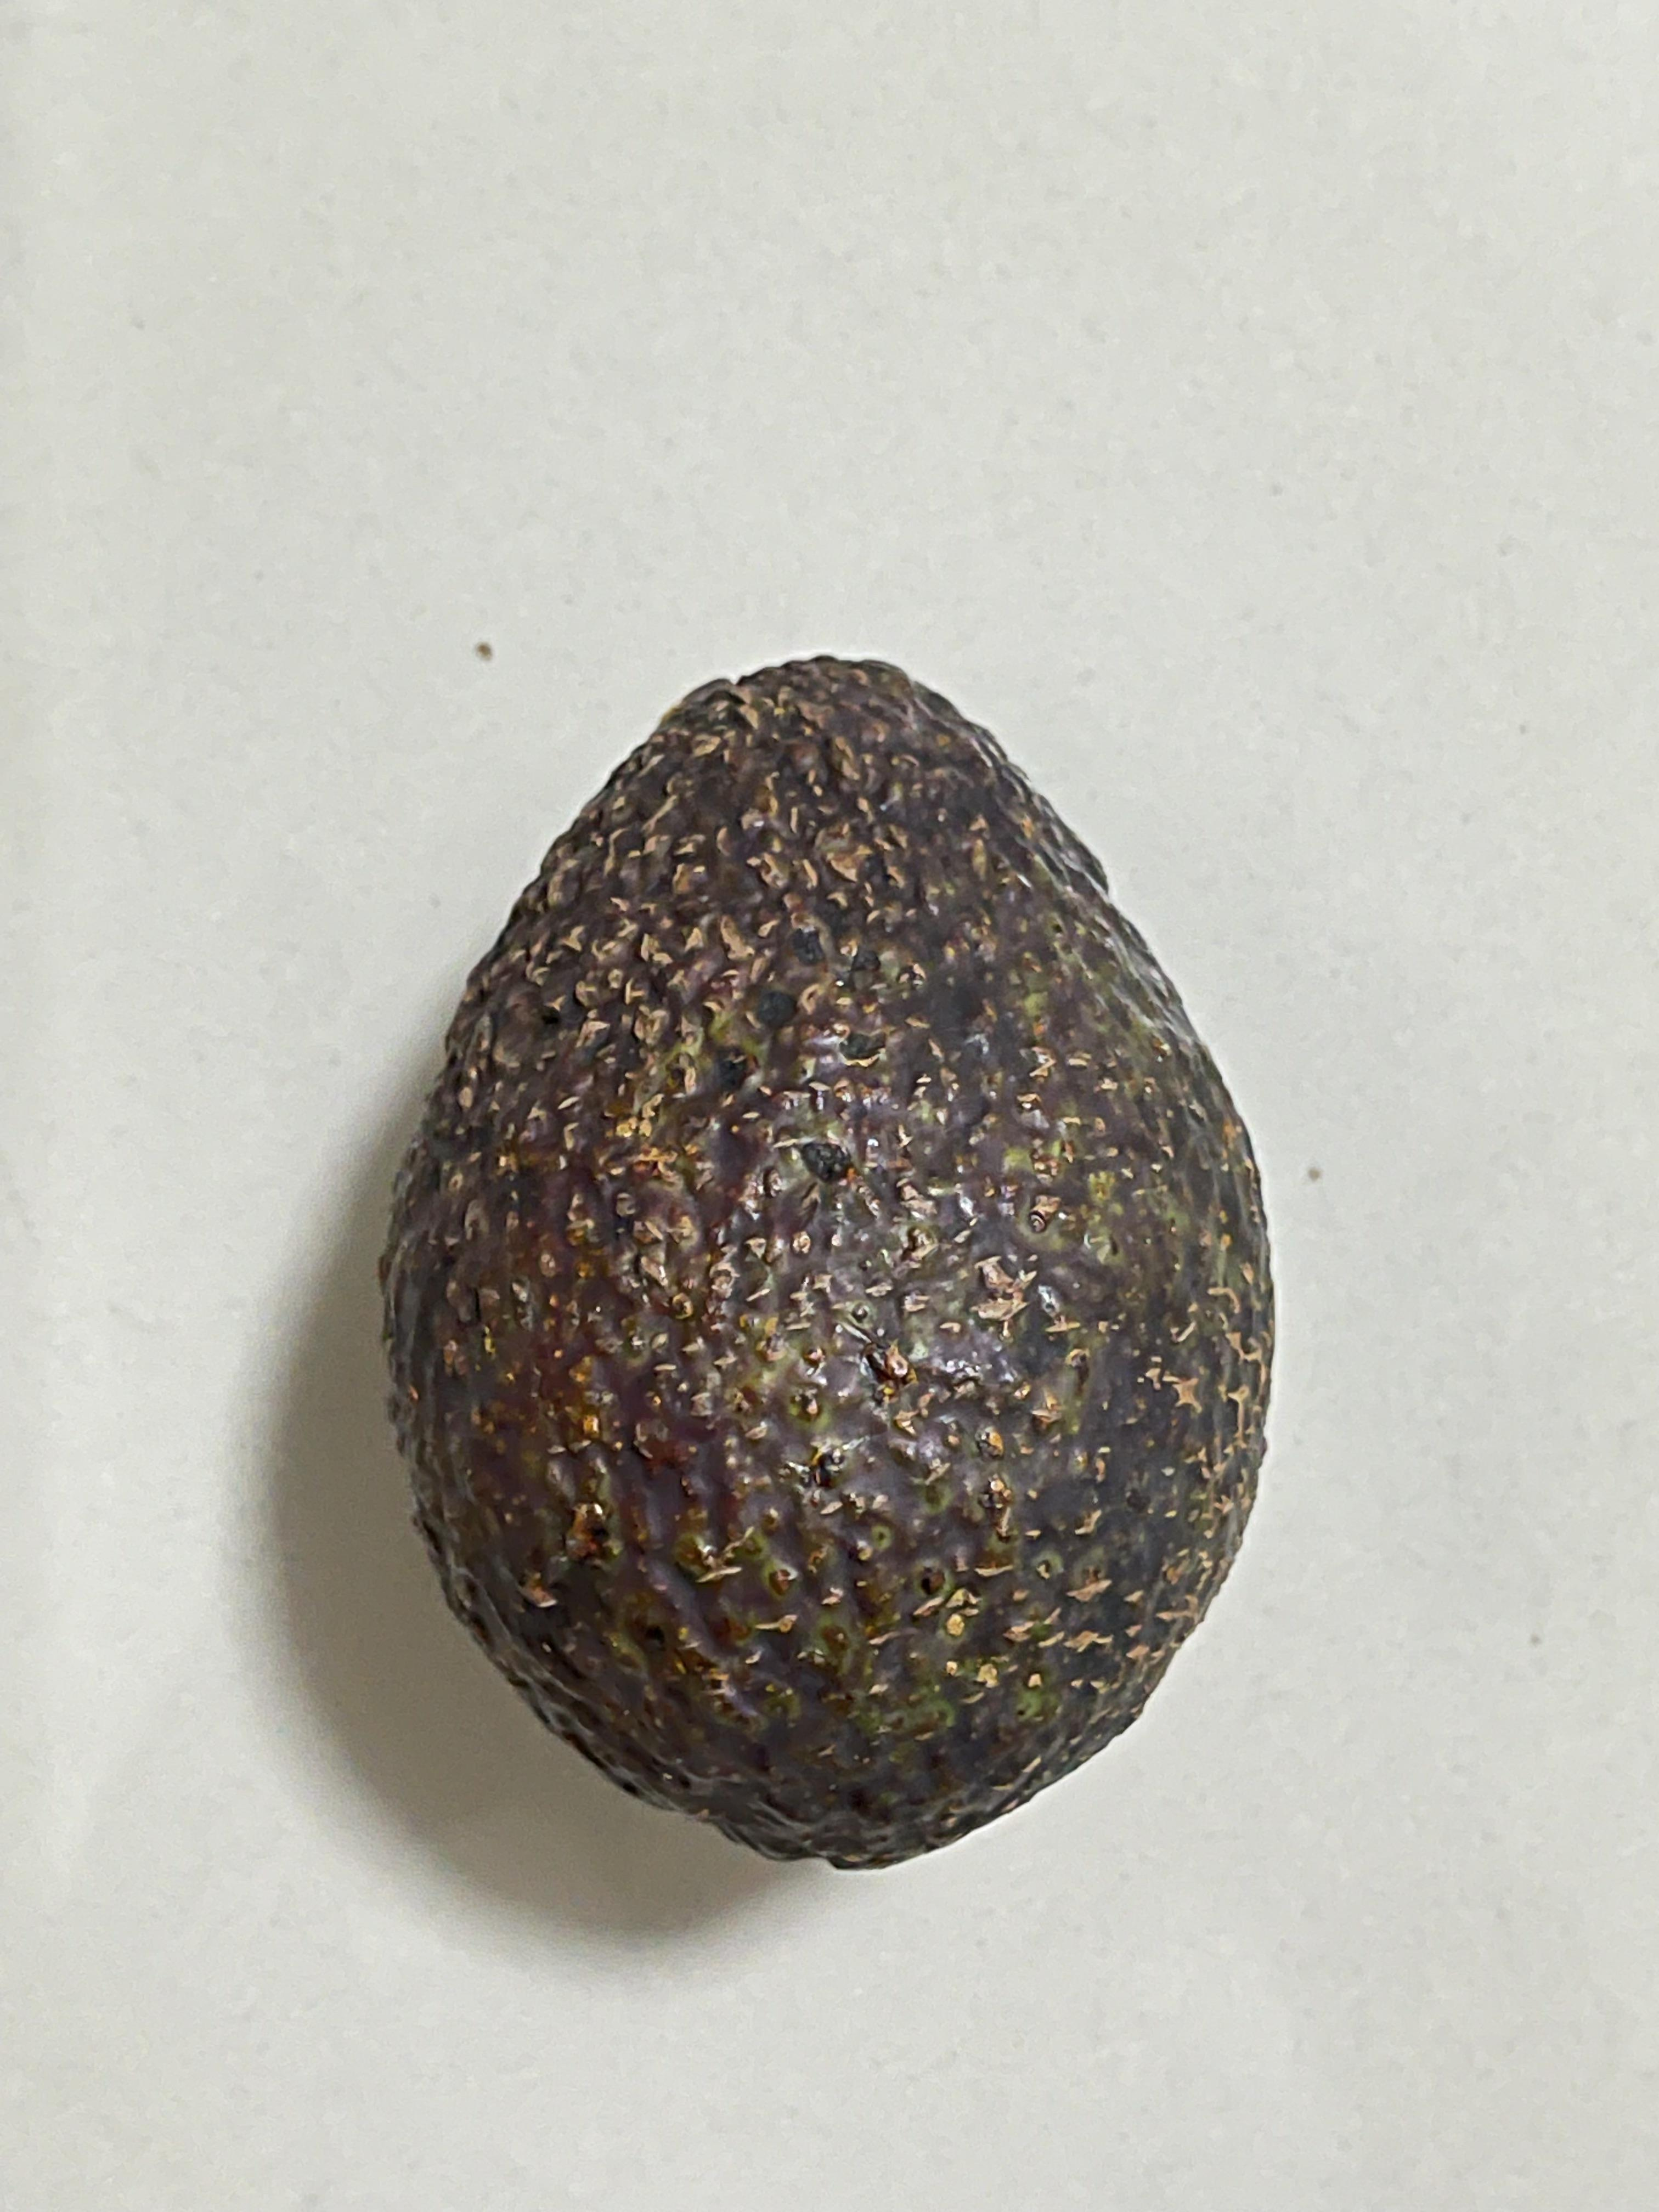Level2: (357, 625, 1300, 1897)
